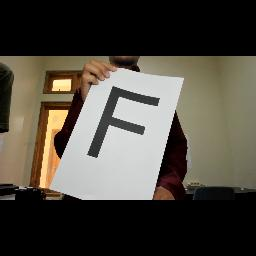f: (86, 84, 162, 172)
